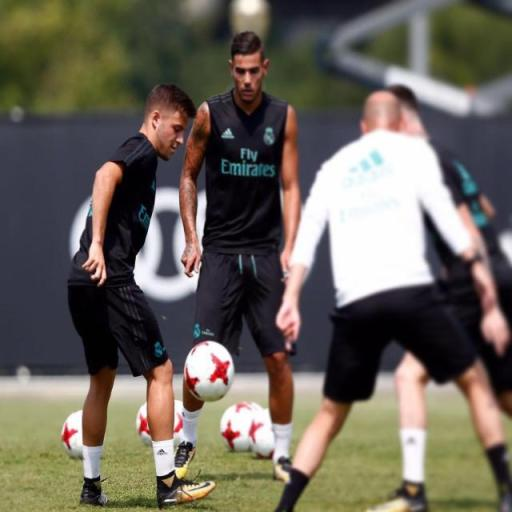Adidas: (220, 126, 235, 140)
Emirates: (220, 146, 276, 180)
